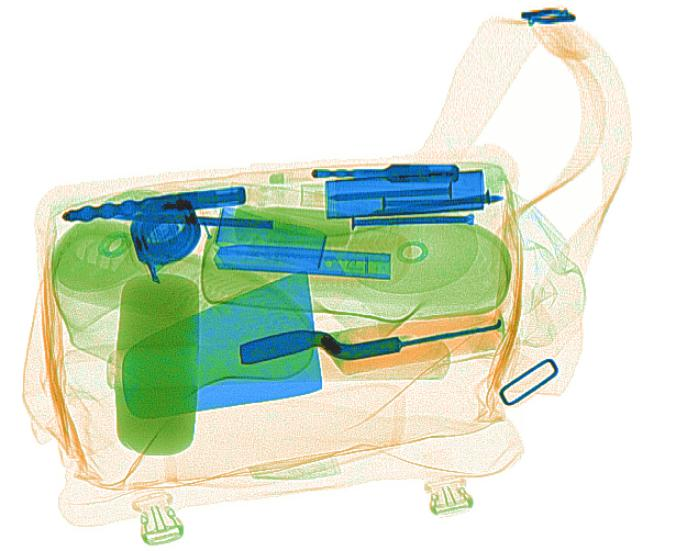knife: (209, 241, 392, 282)
